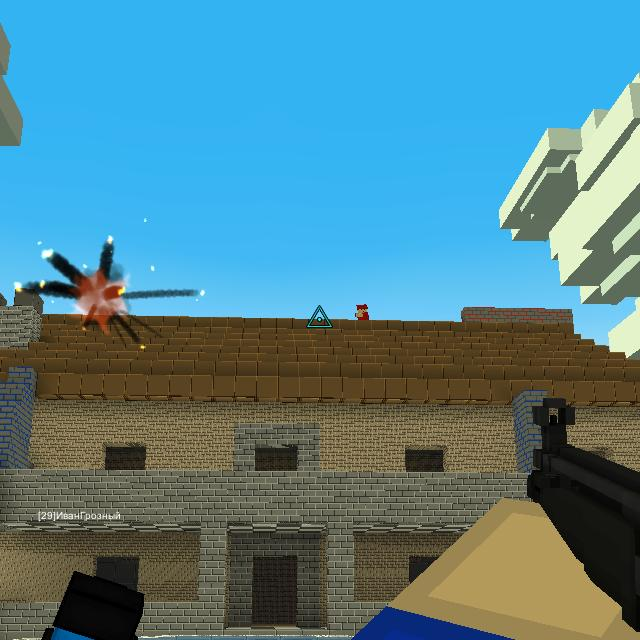enemy: (354, 304, 370, 320)
